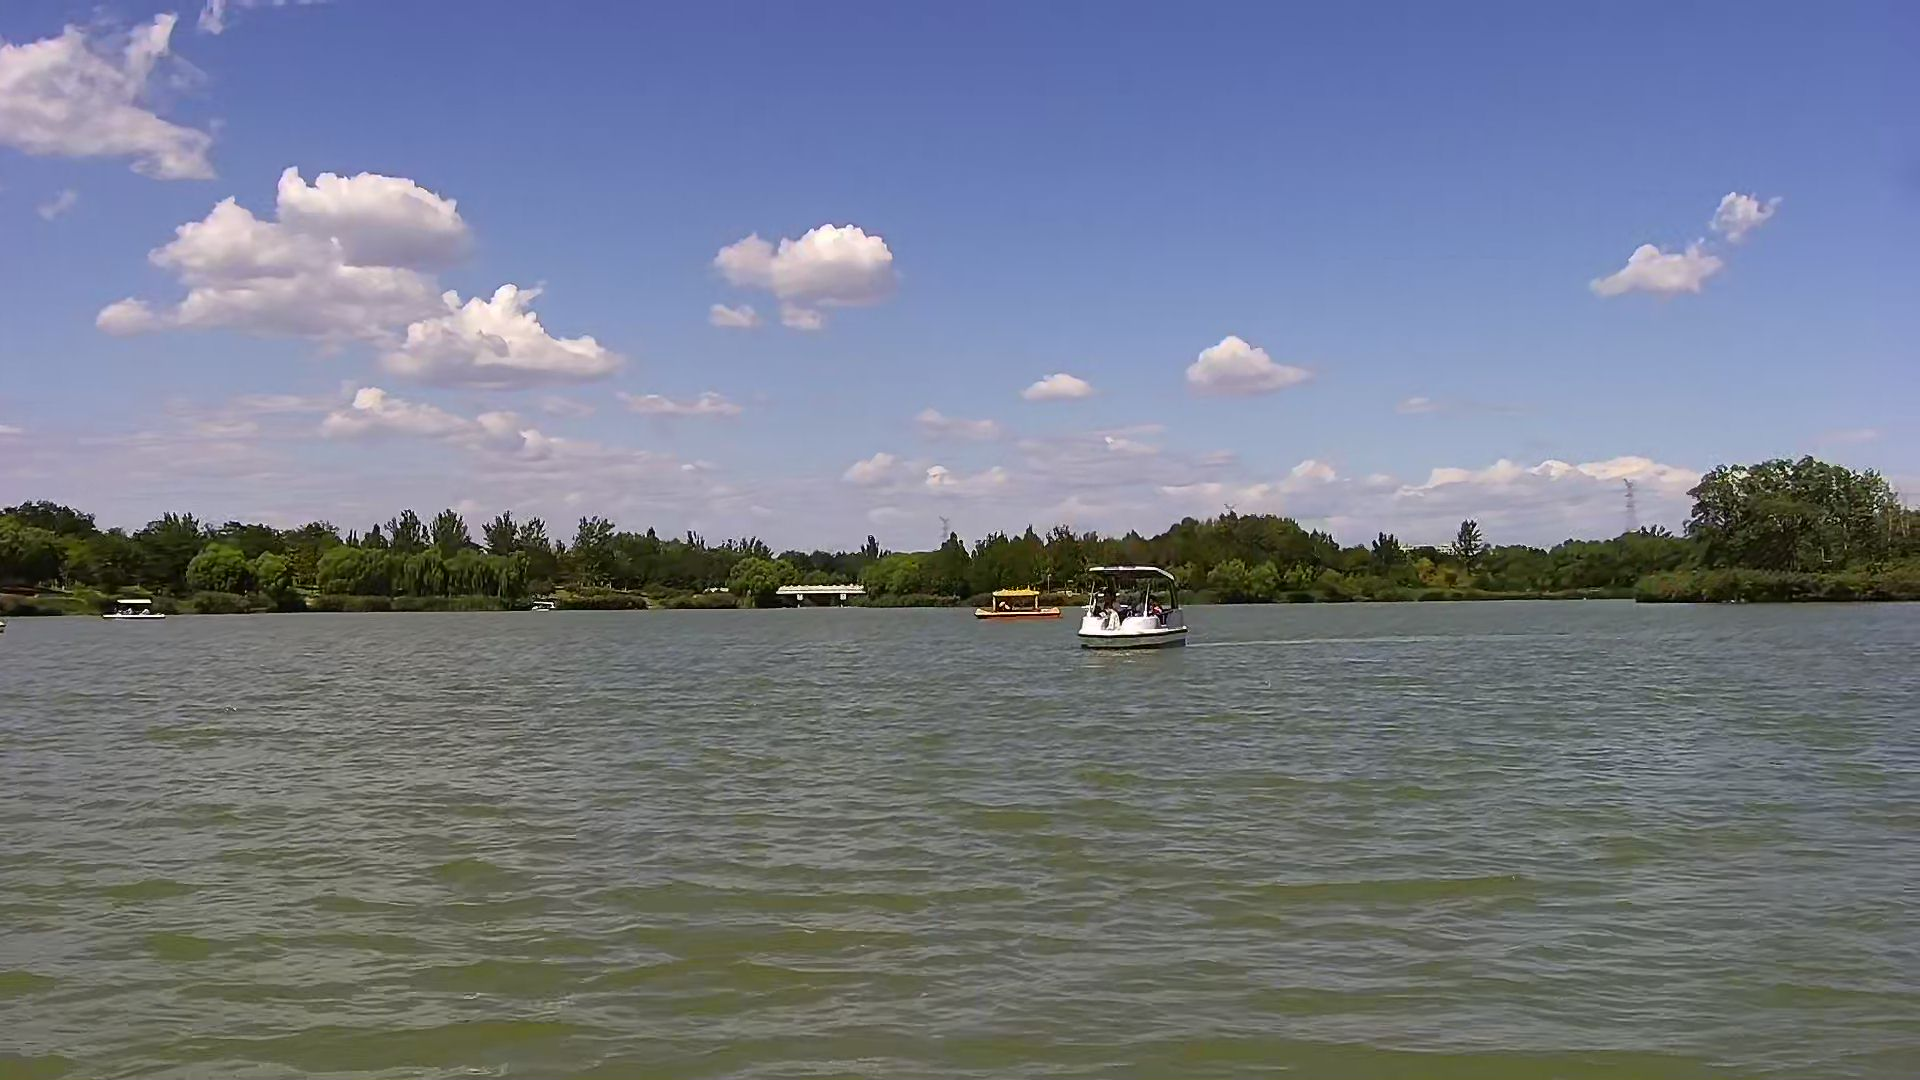boat: (1077, 562, 1197, 657), (963, 583, 1069, 626), (99, 591, 167, 622)
bridge: (777, 578, 872, 611)
